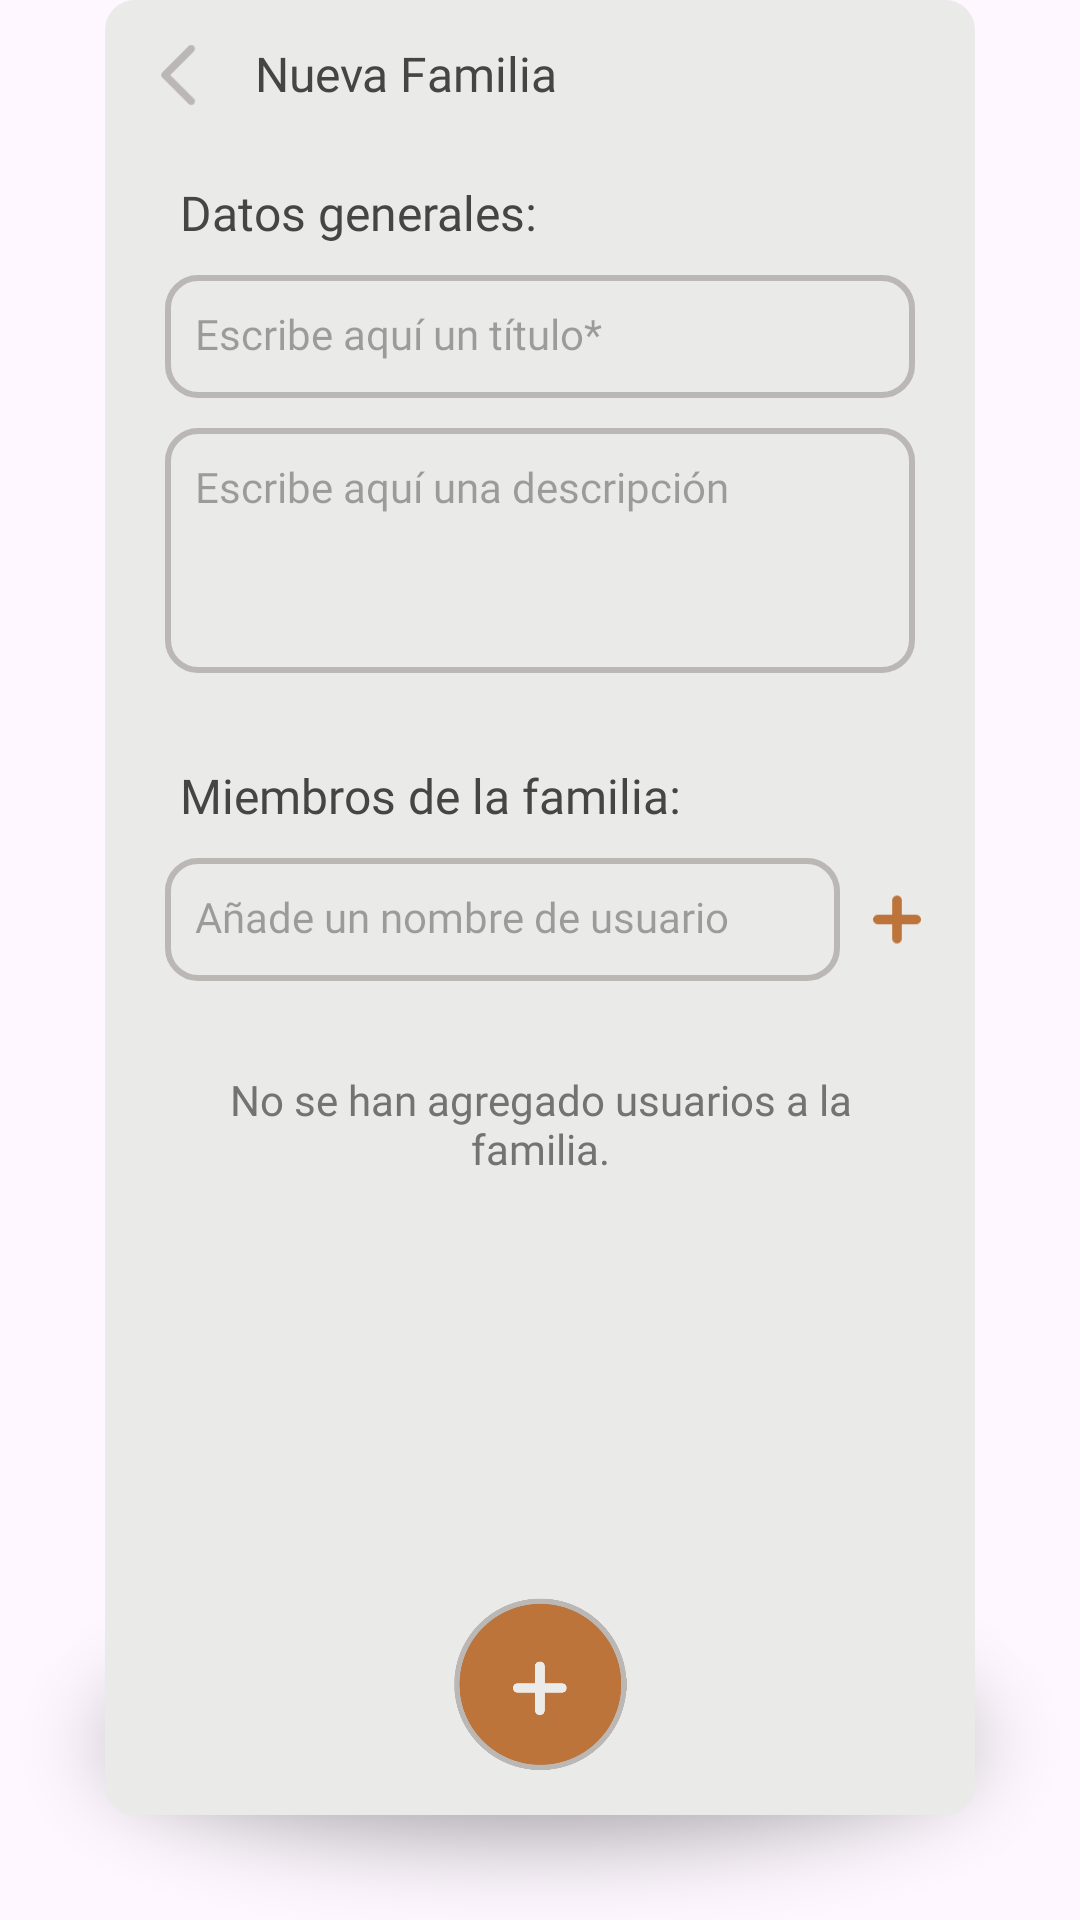

Named icons in this screenshot (1080 x 1920) and their bounding boxes, (x1, y1, x2, y2):
chevronleftgrey: (161, 45, 195, 105)
plus: (873, 895, 921, 944)
